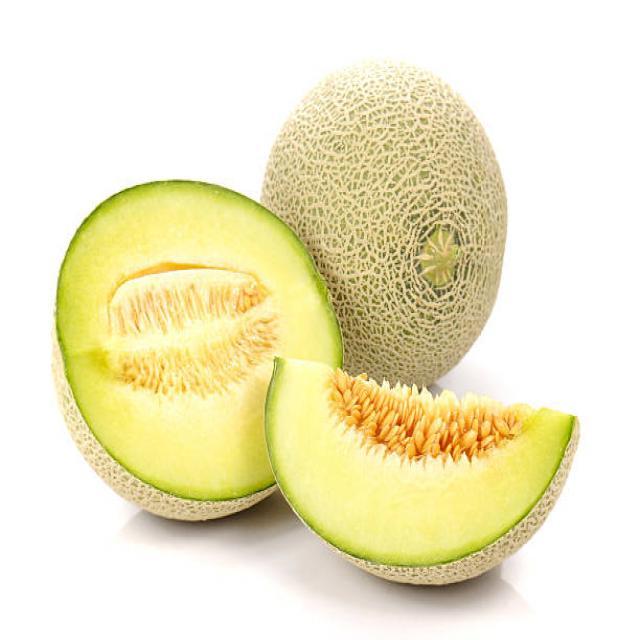melon: (47, 170, 268, 518), (271, 362, 581, 590), (322, 53, 510, 378)
